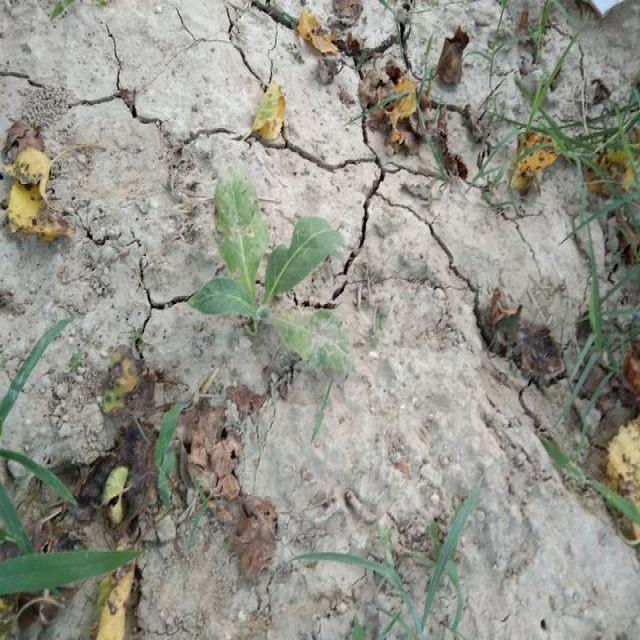crop: (198, 179, 351, 380)
